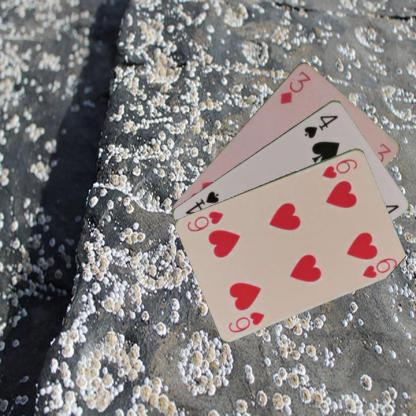3d: (277, 68, 312, 105)
4s: (301, 112, 339, 139)
6h: (225, 308, 266, 334), (319, 155, 359, 180)
